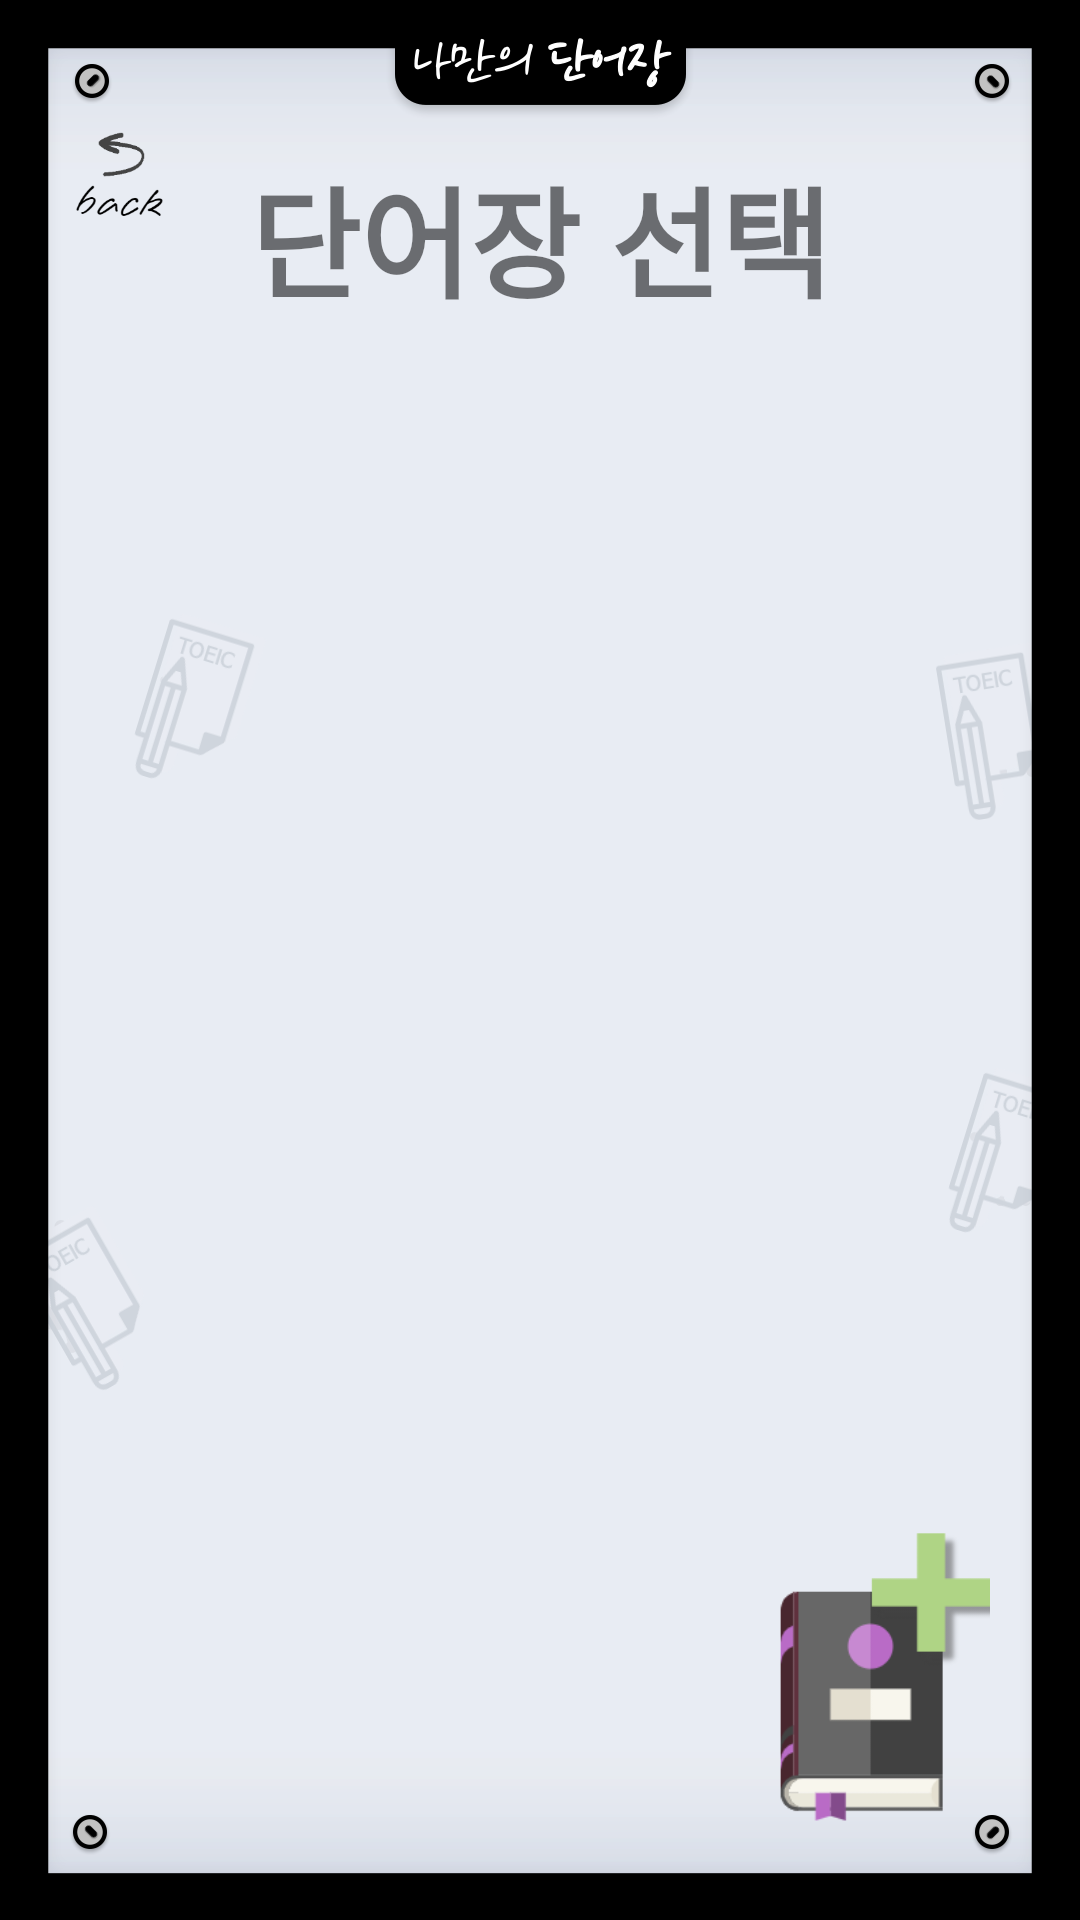

Screen size 1080w x 1920h. Icon name, then its box in pixels as (x1, y1, x2, y2):
add book: (780, 1533, 990, 1821)
